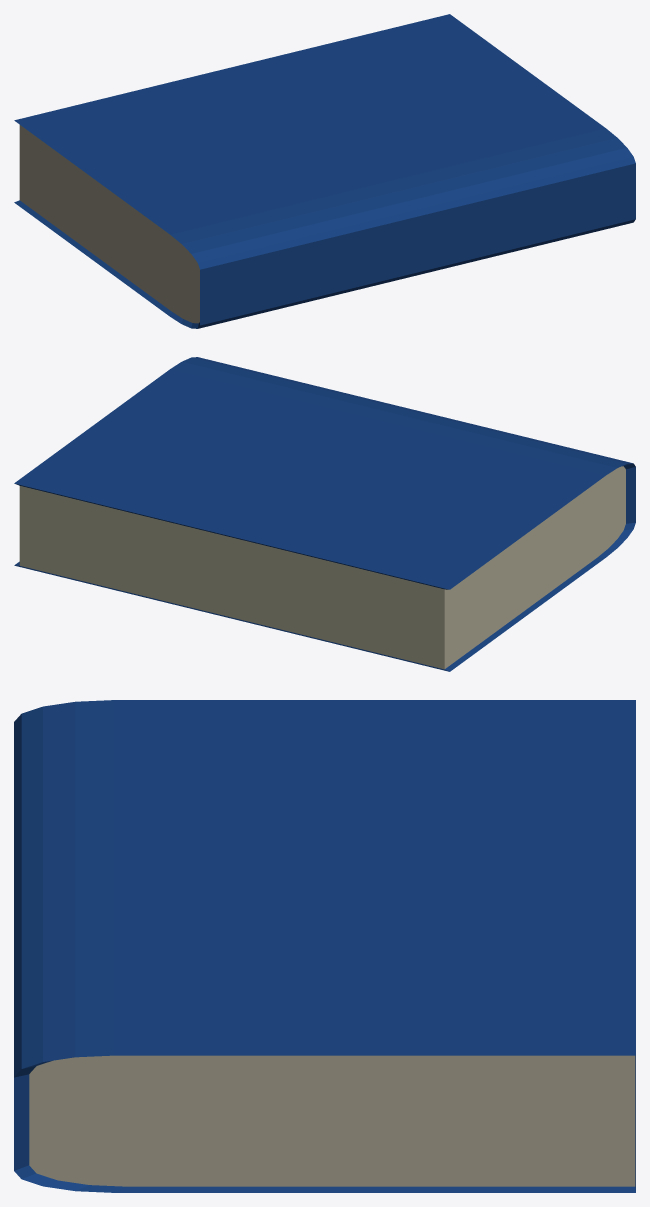
Rendered from collection_basic_blue_book.glb.
The picture shows the model from 3 angles, top to bottom: view 1: azimuth 30°, elevation 25°; view 2: azimuth 150°, elevation 25°; view 3: azimuth 270°, elevation 25°; orthographic projection. The views are drawn at different scales.
Parts seen in each view (by area): view 1: Cube; view 2: Cube; view 3: Cube.
Part boxes in pixels (x1=…): Cube: x1=14, y1=14, x2=635, y2=328; Cube: x1=14, y1=357, x2=635, y2=671; Cube: x1=14, y1=700, x2=635, y2=1192.
Bounding box in the file's own units: 1.8 × 0.3232 × 1.33.
